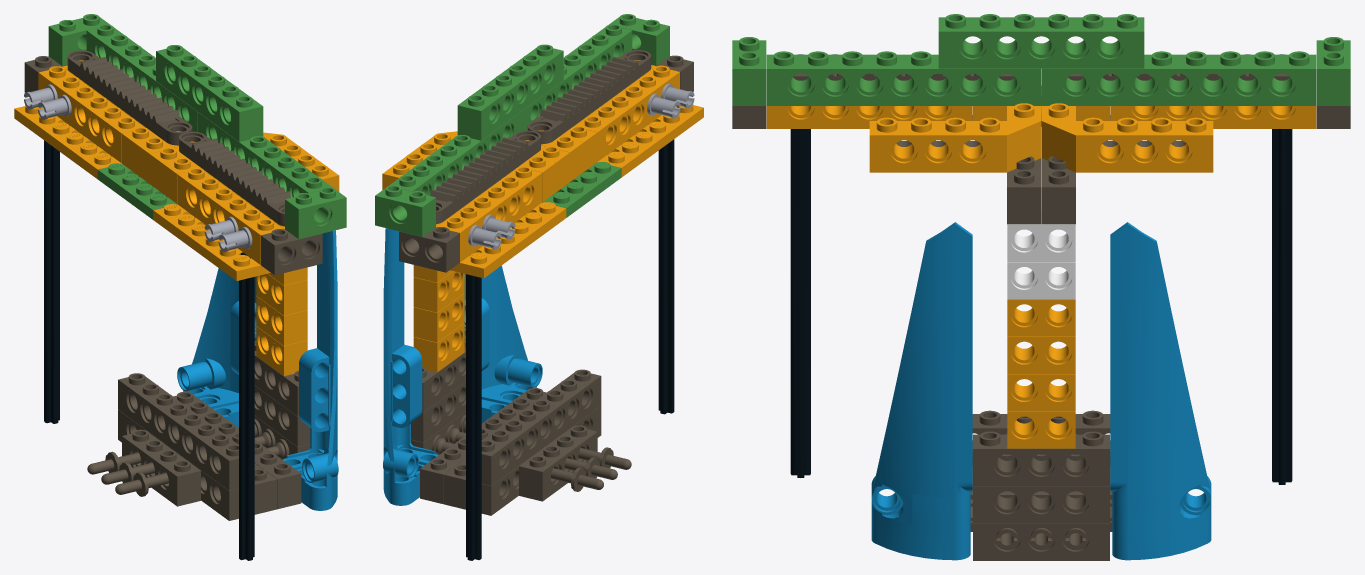
File: piano.dae
The picture shows the model from 3 angles, left to right: view 1: azimuth 30°, elevation 25°; view 2: azimuth 150°, elevation 25°; view 3: azimuth 270°, elevation 25°; orthographic projection. The views are drawn at different scales.
Visible parts, largest first — view 1: Inner-Node-piano_dot_io-21, Inner-Node-piano_dot_io-2, Inner-Node-piano_dot_io-22, Inner-Node-piano_dot_io-18, Inner-Node-SubModel__Group__2-1, Inner-Node-SubModel__Group__2-0, Inner-Node-SubModel__Group__1-15, Inner-Node-SubModel__Group__1-18, Inner-Node-SubModel__Group__1-8, Inner-Node-SubModel__Group__1-7, Inner-Node-SubModel__Group__1-9, Inner-Node-SubModel__Group__1-10 (+28 smaller); view 2: Inner-Node-piano_dot_io-22, Inner-Node-piano_dot_io-2, Inner-Node-piano_dot_io-21, Inner-Node-piano_dot_io-18, Inner-Node-SubModel__Group__2-1, Inner-Node-SubModel__Group__2-0, Inner-Node-SubModel__Group__1-18, Inner-Node-SubModel__Group__1-15, Inner-Node-SubModel__Group__1-7, Inner-Node-SubModel__Group__1-8, Inner-Node-SubModel__Group__1-10, Inner-Node-SubModel__Group__1-9 (+28 smaller); view 3: Inner-Node-piano_dot_io-21, Inner-Node-piano_dot_io-22, Inner-Node-SubModel__Group__1-9, Inner-Node-SubModel__Group__1-10, Inner-Node-piano_dot_io-18, Inner-Node-SubModel__Group__1-0, Inner-Node-SubModel__Group__1-3, Inner-Node-SubModel__Group__2-0, Inner-Node-SubModel__Group__2-1, Inner-Node-piano_dot_io-10, Inner-Node-piano_dot_io-1, Inner-Node-piano_dot_io-11 (+15 smaller).
Boxes of the visible parts, x1,y1,x2,y2 form: Inner-Node-piano_dot_io-21: (282, 230, 338, 510); Inner-Node-piano_dot_io-2: (118, 373, 238, 490); Inner-Node-piano_dot_io-22: (177, 268, 256, 427); Inner-Node-piano_dot_io-18: (156, 45, 263, 141); Inner-Node-SubModel__Group__2-1: (239, 252, 254, 560); Inner-Node-SubModel__Group__2-0: (44, 140, 59, 423); Inner-Node-SubModel__Group__1-15: (67, 50, 192, 145); Inner-Node-SubModel__Group__1-18: (179, 131, 290, 226); Inner-Node-SubModel__Group__1-8: (38, 66, 144, 163); Inner-Node-SubModel__Group__1-7: (177, 168, 284, 264); Inner-Node-SubModel__Group__1-9: (198, 112, 332, 197); Inner-Node-SubModel__Group__1-10: (86, 24, 197, 131); Inner-Node-piano_dot_io-22: (383, 228, 438, 505); Inner-Node-piano_dot_io-2: (481, 369, 601, 485); Inner-Node-piano_dot_io-21: (464, 265, 542, 423); Inner-Node-piano_dot_io-18: (457, 44, 563, 140); Inner-Node-SubModel__Group__2-1: (658, 139, 674, 414); Inner-Node-SubModel__Group__2-0: (466, 274, 481, 560); Inner-Node-SubModel__Group__1-18: (527, 50, 651, 144); Inner-Node-SubModel__Group__1-15: (430, 130, 540, 224); Inner-Node-SubModel__Group__1-7: (574, 65, 679, 161); Inner-Node-SubModel__Group__1-8: (437, 166, 542, 262); Inner-Node-SubModel__Group__1-10: (389, 111, 522, 195); Inner-Node-SubModel__Group__1-9: (522, 24, 632, 130); Inner-Node-piano_dot_io-21: (871, 222, 972, 560); Inner-Node-piano_dot_io-22: (1110, 222, 1211, 560); Inner-Node-SubModel__Group__1-9: (766, 51, 1041, 105); Inner-Node-SubModel__Group__1-10: (1041, 51, 1316, 105); Inner-Node-piano_dot_io-18: (938, 14, 1144, 68); Inner-Node-SubModel__Group__1-0: (869, 103, 1041, 172); Inner-Node-SubModel__Group__1-3: (1041, 103, 1213, 172); Inner-Node-SubModel__Group__2-0: (1272, 129, 1292, 484); Inner-Node-SubModel__Group__2-1: (790, 129, 810, 477); Inner-Node-piano_dot_io-10: (973, 431, 1109, 486); Inner-Node-piano_dot_io-1: (973, 486, 1109, 523); Inner-Node-piano_dot_io-11: (973, 523, 1109, 560).
Bounding box in the file's own units: 159 × 320 × 360.
